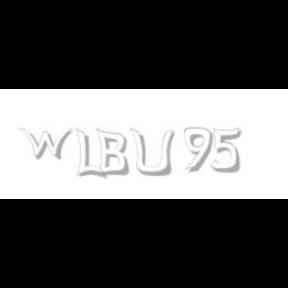5: (210, 128, 242, 174)
9: (184, 128, 212, 172)
B: (95, 128, 129, 178)
L: (76, 128, 104, 180)
U: (130, 128, 174, 178)
w: (18, 128, 78, 160)
